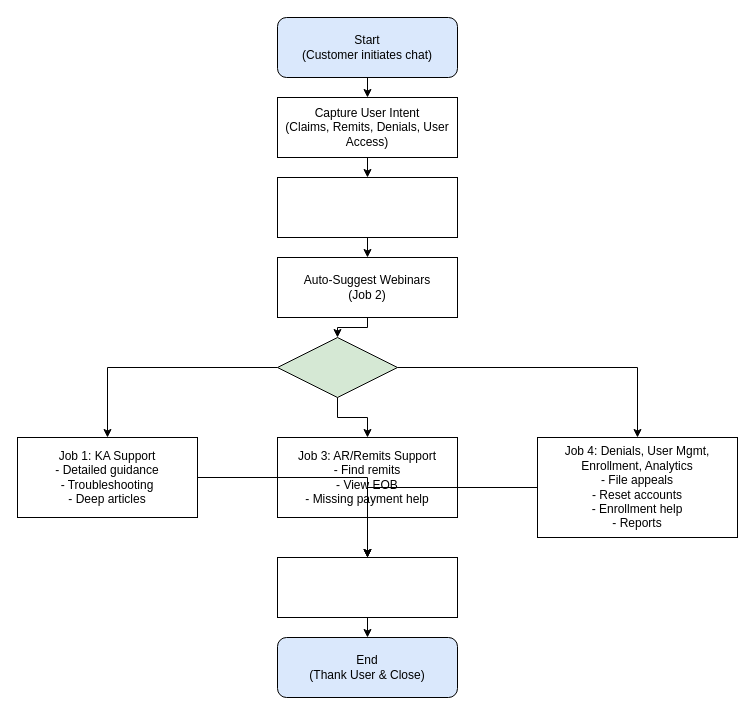
Some shapes in this 755 by 715 pixel diagram are drawn without their labels. The shapes that lost their labels are listed below. From the top down, each one's box as (x1, y1, x2, y2) in pixels, then its label:
(276, 176, 458, 238): Provide Knowledge Article or Quick Answer
(276, 336, 398, 398): Need More Help?
(276, 556, 458, 618): Offer Next Steps or Escalate
